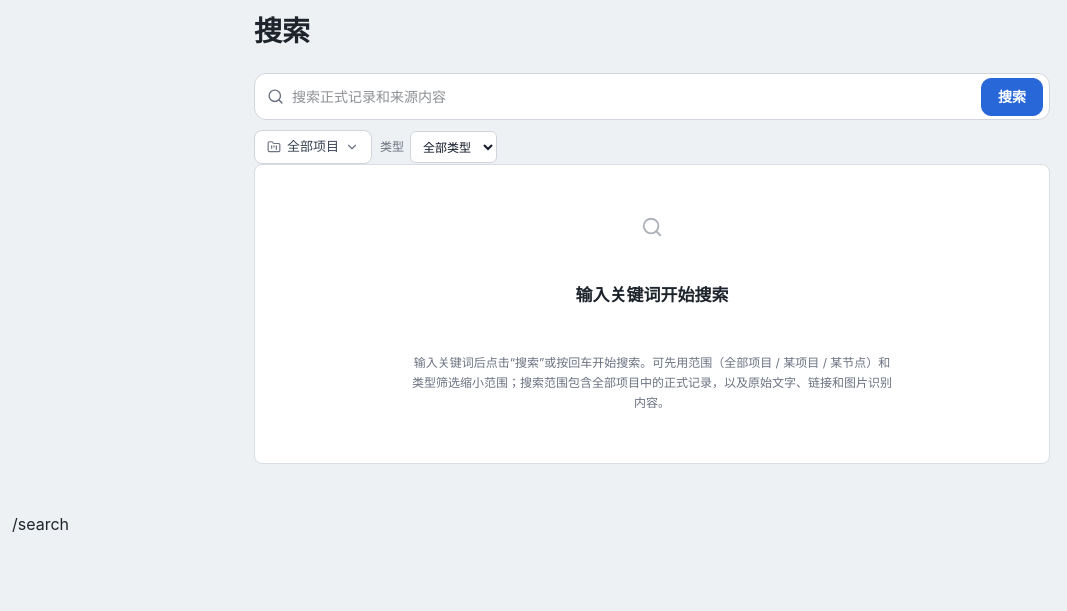
SearchPage › submits with the Enter key
The image size is (1067, 611).
In the field named "搜索关键词": (632, 96) [292,74,973,119], type "冰箱"
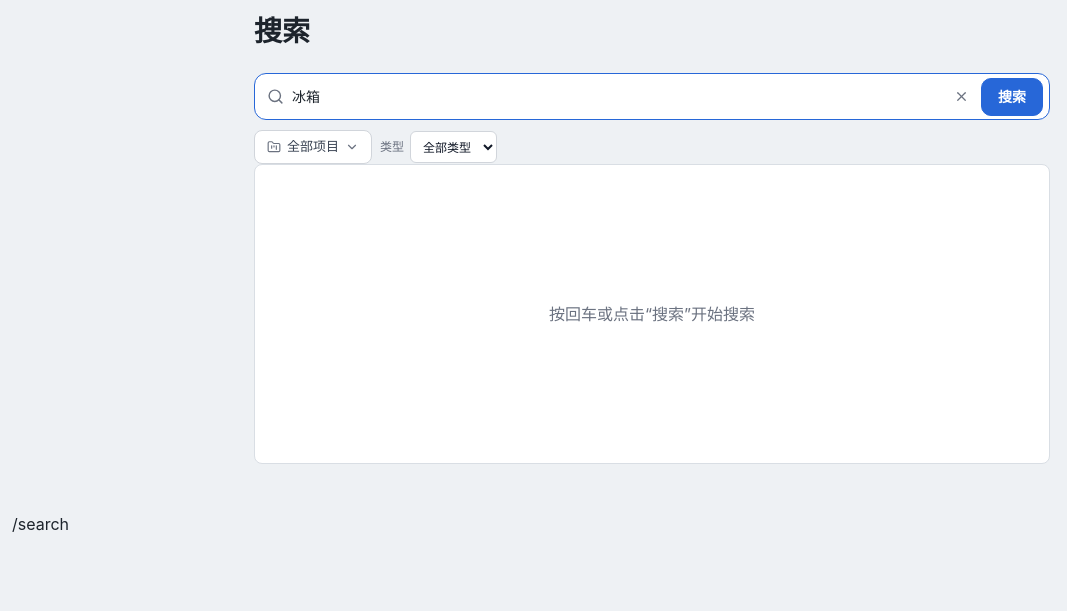
Press Enter in the field named "搜索关键词", box [292,74,942,119]
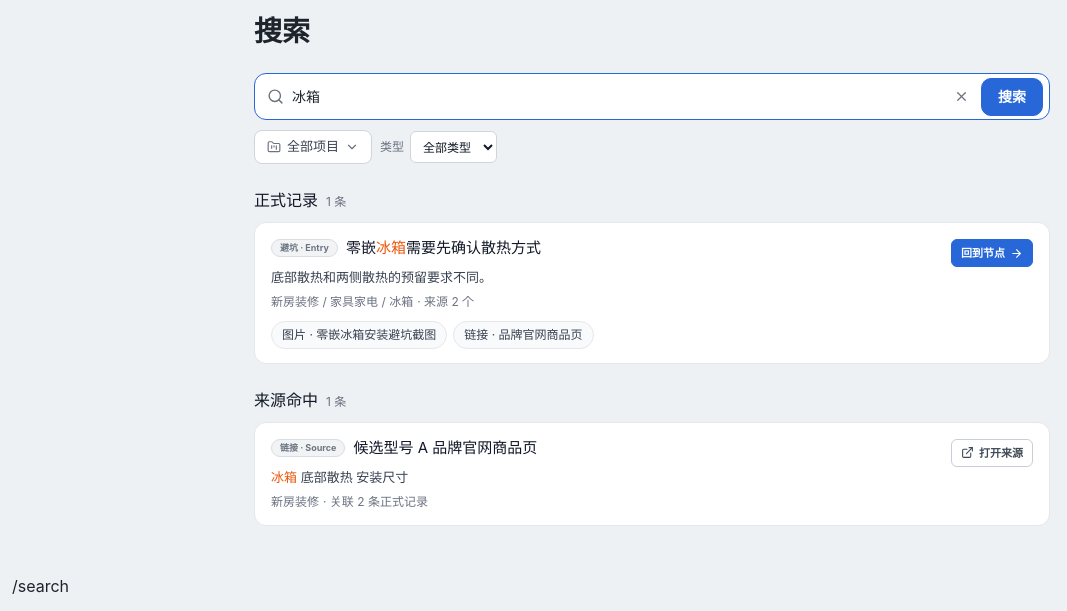
Expected: the heading "零嵌冰箱需要先确认散热方式" is shown, [346,237,541,259]
